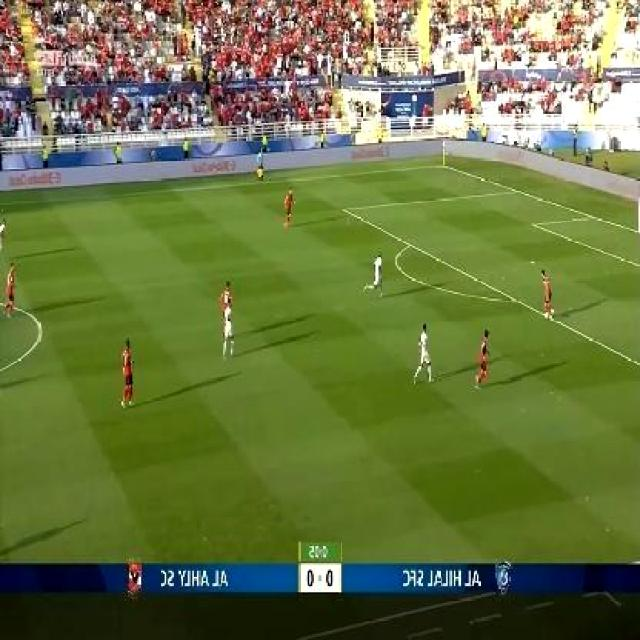bigarea_top_inner: (337, 203, 352, 219)
bigarea_top_outter: (514, 186, 520, 194)
bottom_arc_area_intersection: (508, 288, 524, 308)
corner: (438, 162, 448, 168)
smallarea_top_inner: (531, 218, 538, 228)
smallarea_top_outter: (583, 208, 597, 223)
top_arc_area_intersection: (403, 237, 417, 251)
